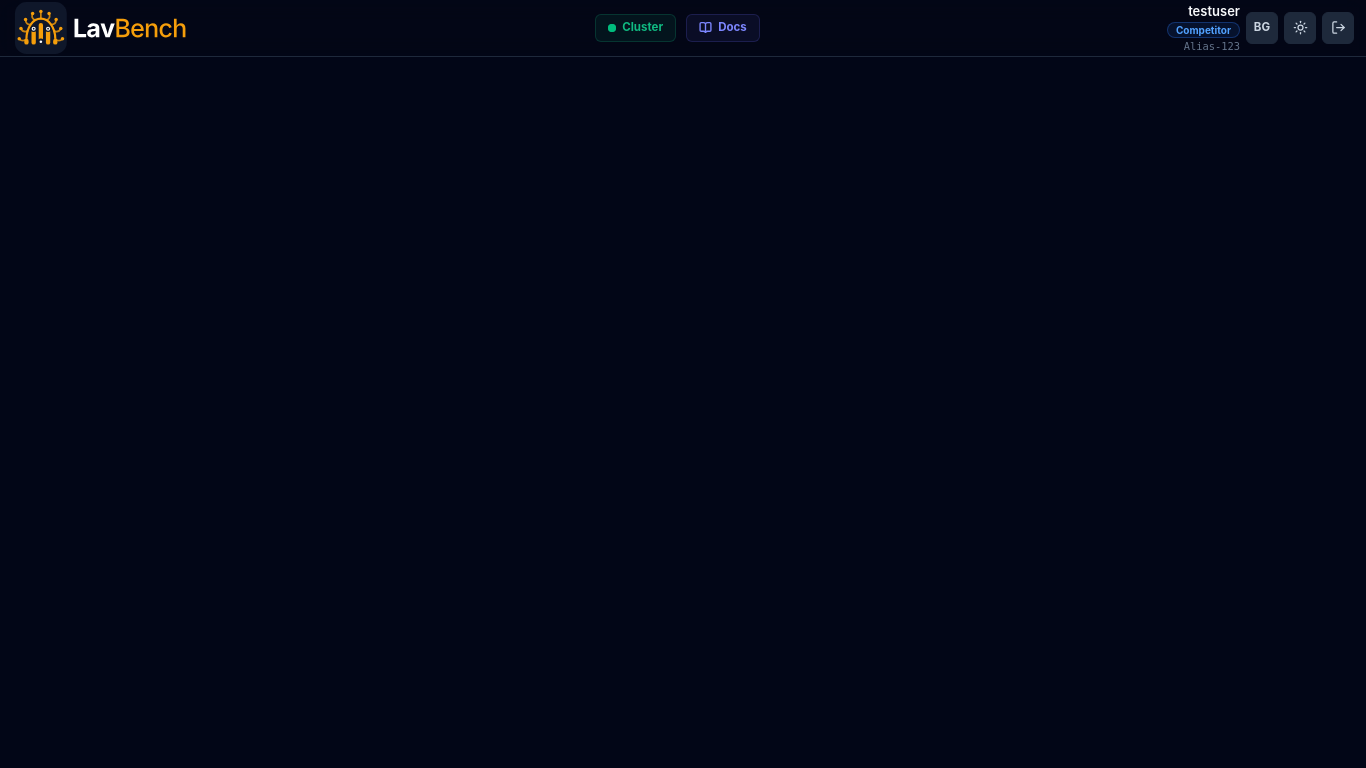
Test: Navbar Component › renders and fetches docs based on role permissions
Click the button "Docs".
click(723, 28)  # box left=686, top=14, right=760, bottom=42
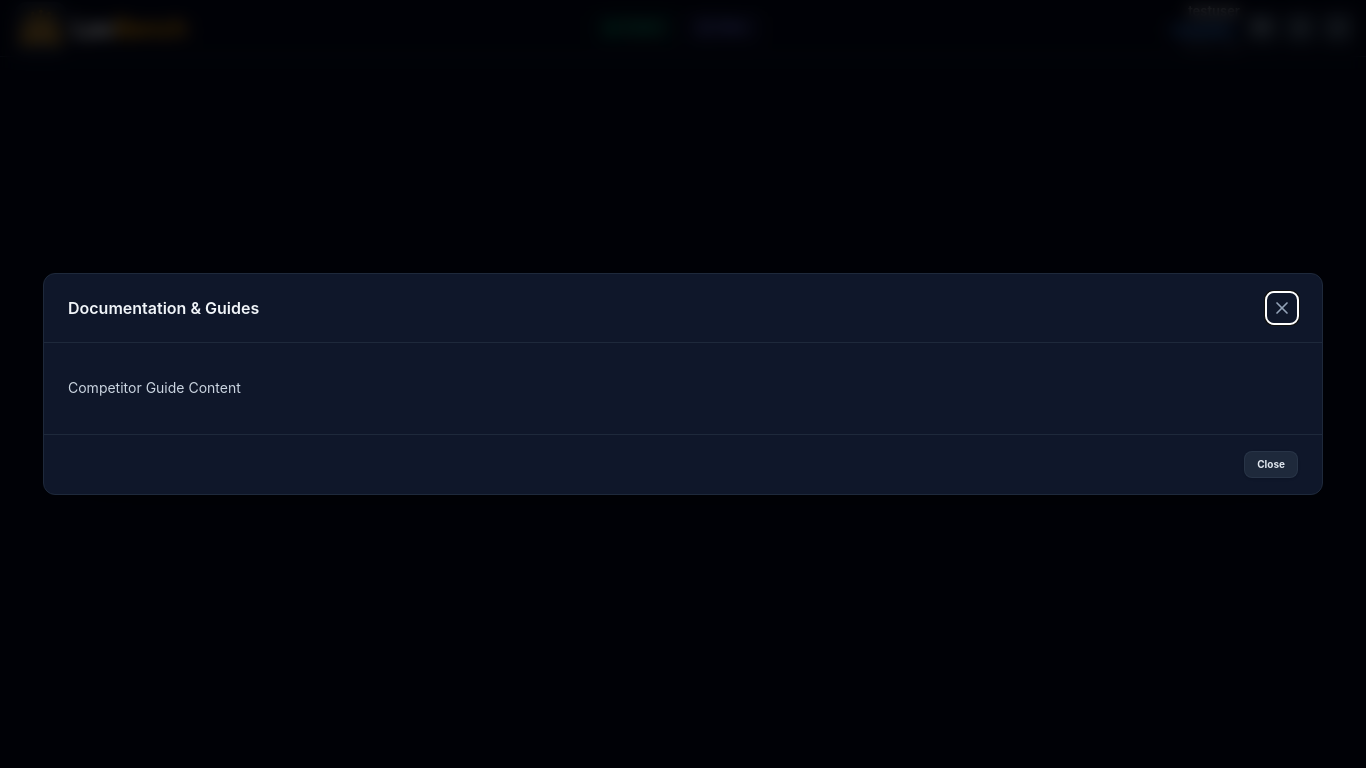
Check: the heading "Documentation & Guides" is shown, box left=68, top=296, right=259, bottom=320
Check: the text "Competitor Guide Content" is shown, box left=68, top=379, right=241, bottom=396
